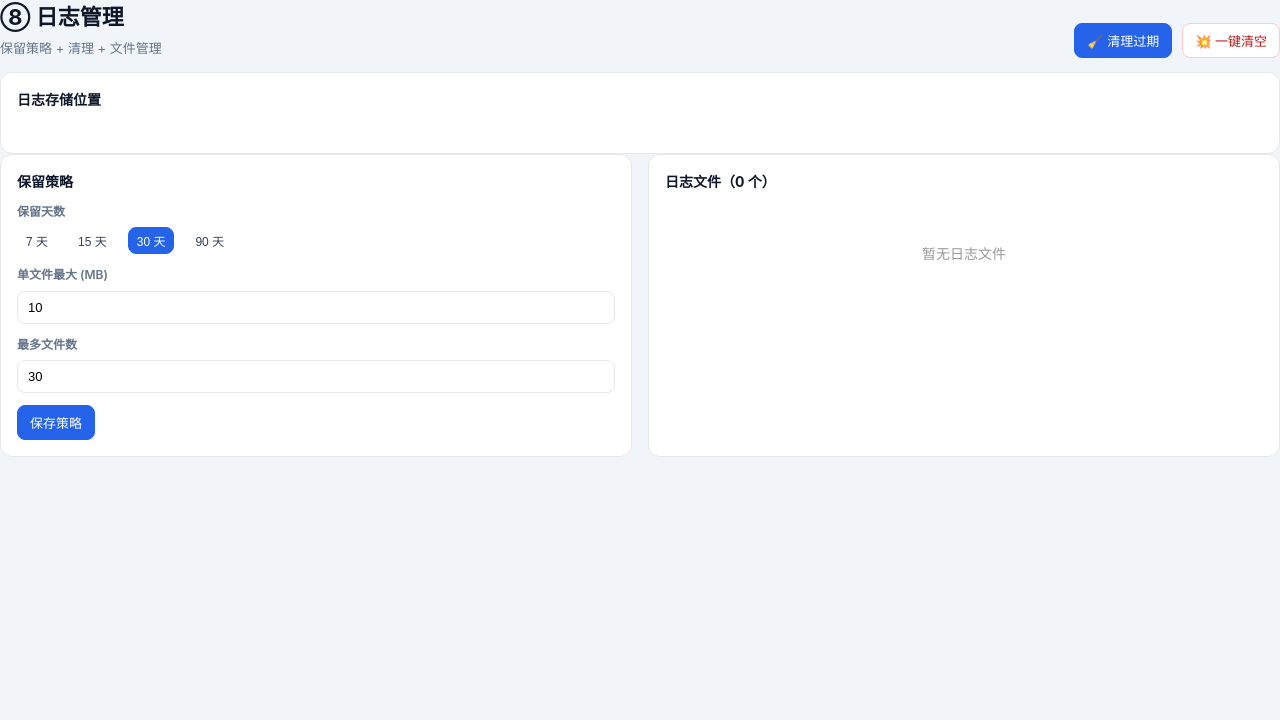
Test: Logs 日志管理 › 清理过期应弹出确认
Click the button "🧹 清理过期": x=1123, y=41 [1074,23,1172,58]
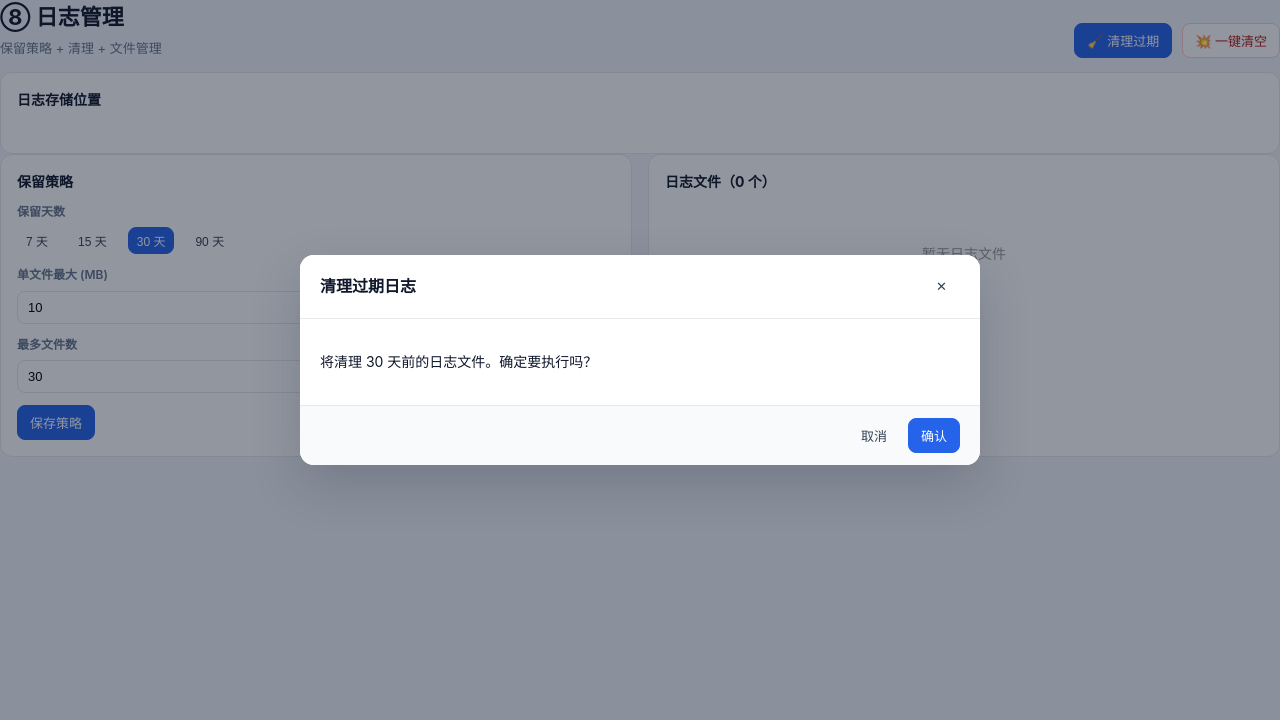
Expected: the text "将清理 30 天前的日志文件。确定要执行吗？" is shown, [320,353,597,370]
